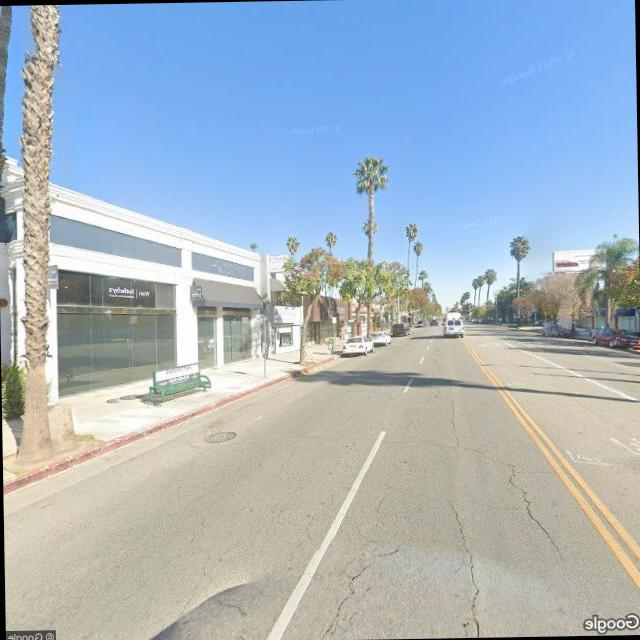crack: (300, 480, 408, 638)
pothole: (471, 442, 565, 564), (448, 497, 488, 636), (443, 379, 462, 452)
